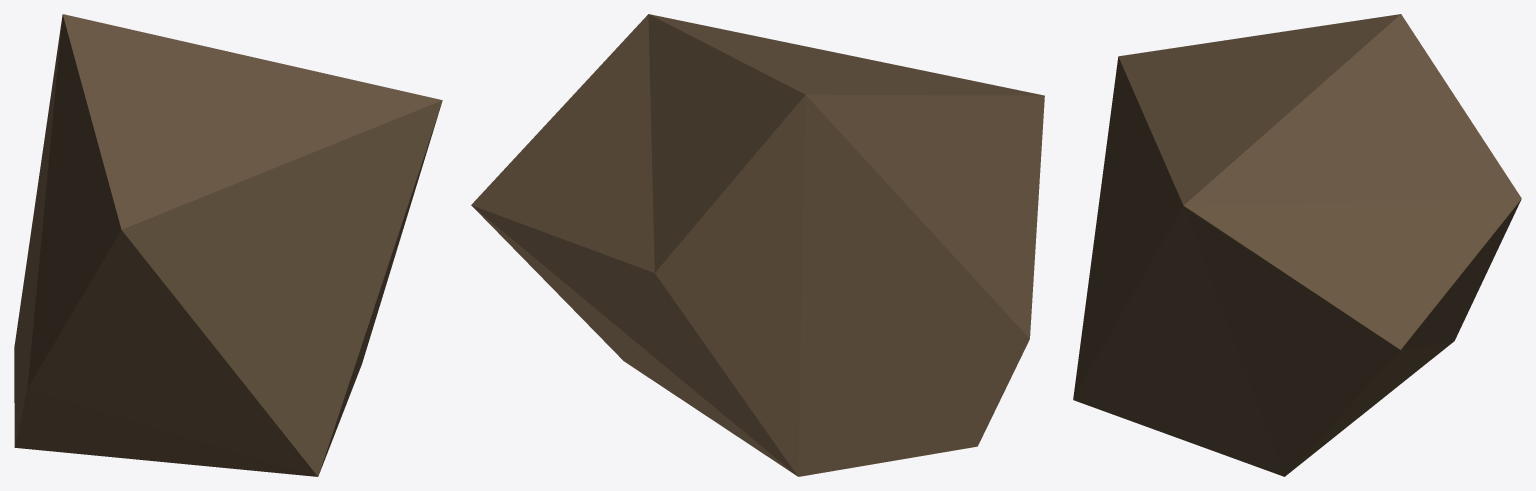
Rendered from Rock-C04.fbx.
3 views of the same model, side by side, from view 1: azimuth 30°, elevation 25°; view 2: azimuth 150°, elevation 25°; view 3: azimuth 270°, elevation 25° (orthographic). The views are drawn at different scales.
Parts seen in each view (by area): view 1: Rock-C04; view 2: Rock-C04; view 3: Rock-C04.
Part boxes in pixels (<box>): Rock-C04: <box>14,14,442,476</box>; Rock-C04: <box>471,14,1044,476</box>; Rock-C04: <box>1073,14,1521,476</box>.
Size of the model in its own units: 33.82 by 25.79 by 29.91.
